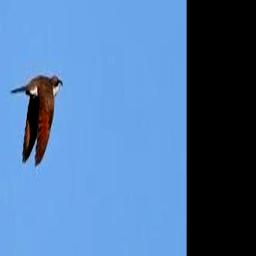Cuckoo: (9, 74, 62, 164)
